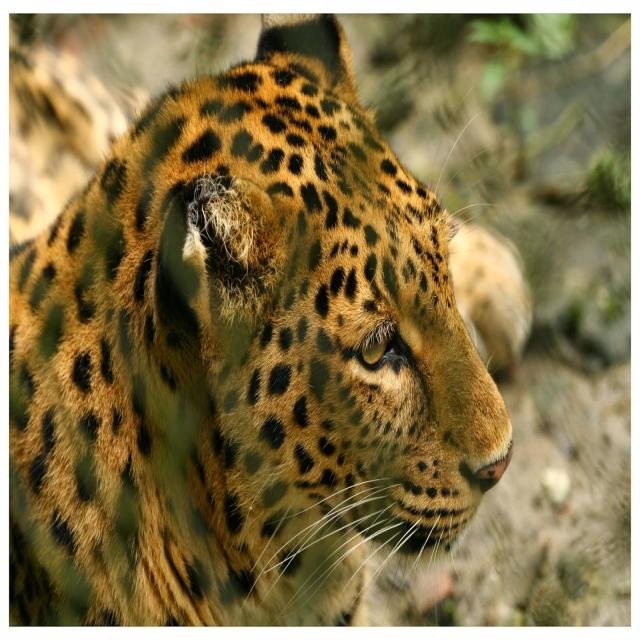Leopard: (15, 41, 513, 634)
